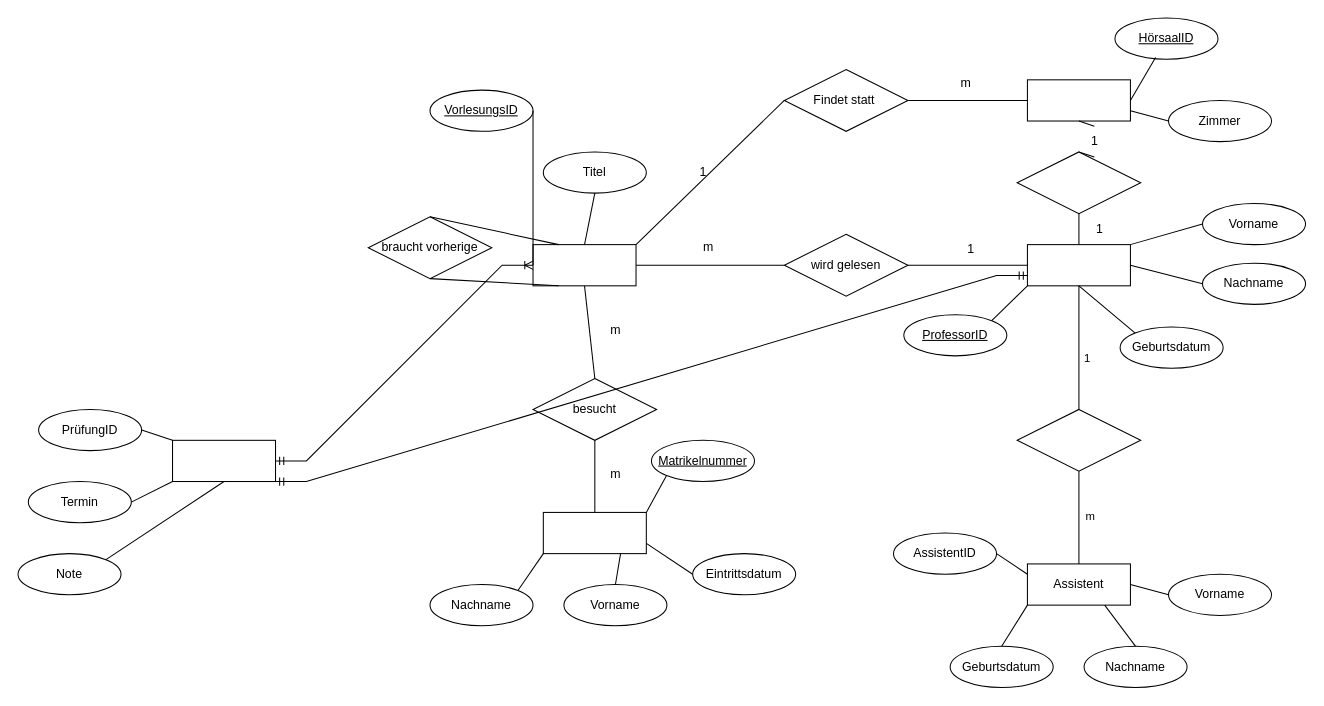
This 1324x706 diagram has some shape labels left out. Here are the shapes that lost their labels. From the top down, the centre of each, then its label:
At pixel 1078 100: "Hörsaal".
At pixel 1078 182: "besitzt".
At pixel 584 265: "Vorlesung".
At pixel 1078 265: "Professor".
At pixel 1078 439: "hilft".
At pixel 223 460: "Prüfung".
At pixel 594 532: "Student".
